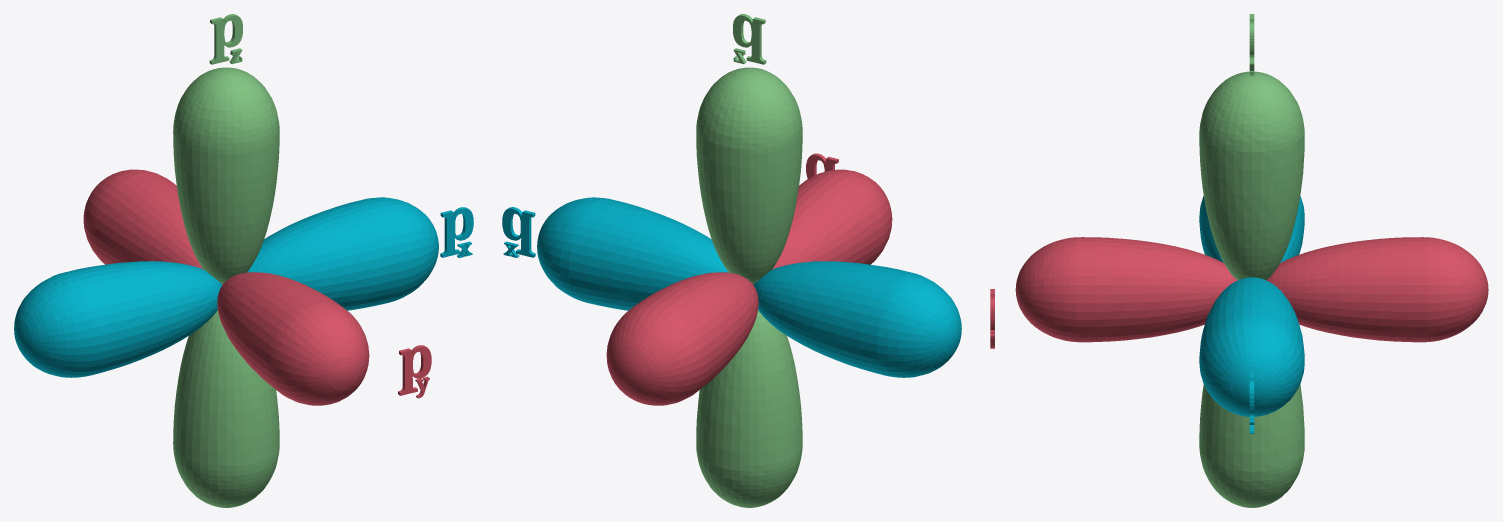
The model's file is p-orbitals-draco.glb.
3 views of the same model, side by side, from view 1: azimuth 30°, elevation 25°; view 2: azimuth 150°, elevation 25°; view 3: azimuth 270°, elevation 25° (orthographic).
Visible parts, largest first — view 1: Mesh_Mesh_head_geo.001_lambert2SG.001; view 2: Mesh_Mesh_head_geo.001_lambert2SG.001; view 3: Mesh_Mesh_head_geo.001_lambert2SG.001.
Boxes of the visible parts, x1,y1,x2,y2 form: Mesh_Mesh_head_geo.001_lambert2SG.001: (14, 14, 473, 507); Mesh_Mesh_head_geo.001_lambert2SG.001: (502, 14, 961, 507); Mesh_Mesh_head_geo.001_lambert2SG.001: (990, 14, 1488, 507).
Size of the model in its own units: 118 by 121 by 113.
